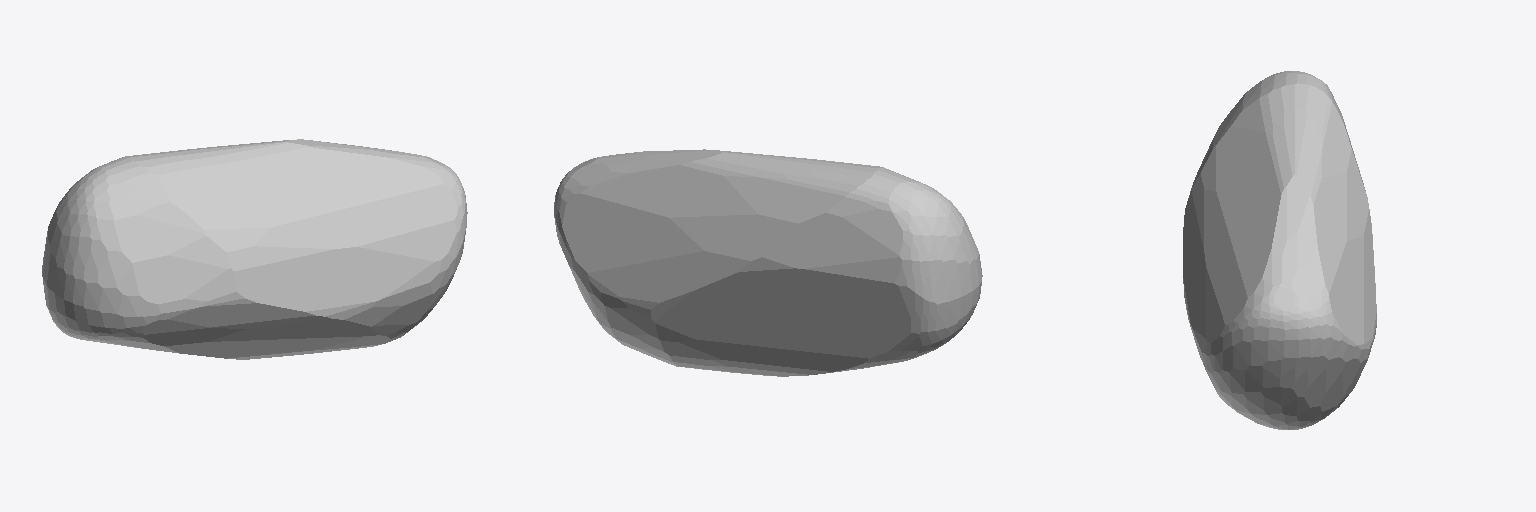
The model's file is Hektor2.obj.
3 renders of one model, left to right at view 1: azimuth 30°, elevation 25°; view 2: azimuth 150°, elevation 25°; view 3: azimuth 270°, elevation 25°, orthographic.
Parts seen in each view (by area): view 1: Hektor; view 2: Hektor; view 3: Hektor.
Part boxes in pixels (left/top/right/bottom): Hektor: left=42, top=139, right=467, bottom=359; Hektor: left=554, top=149, right=982, bottom=376; Hektor: left=1183, top=71, right=1376, bottom=429.
Size of the model in its own units: 2.1 by 1.15 by 0.868.